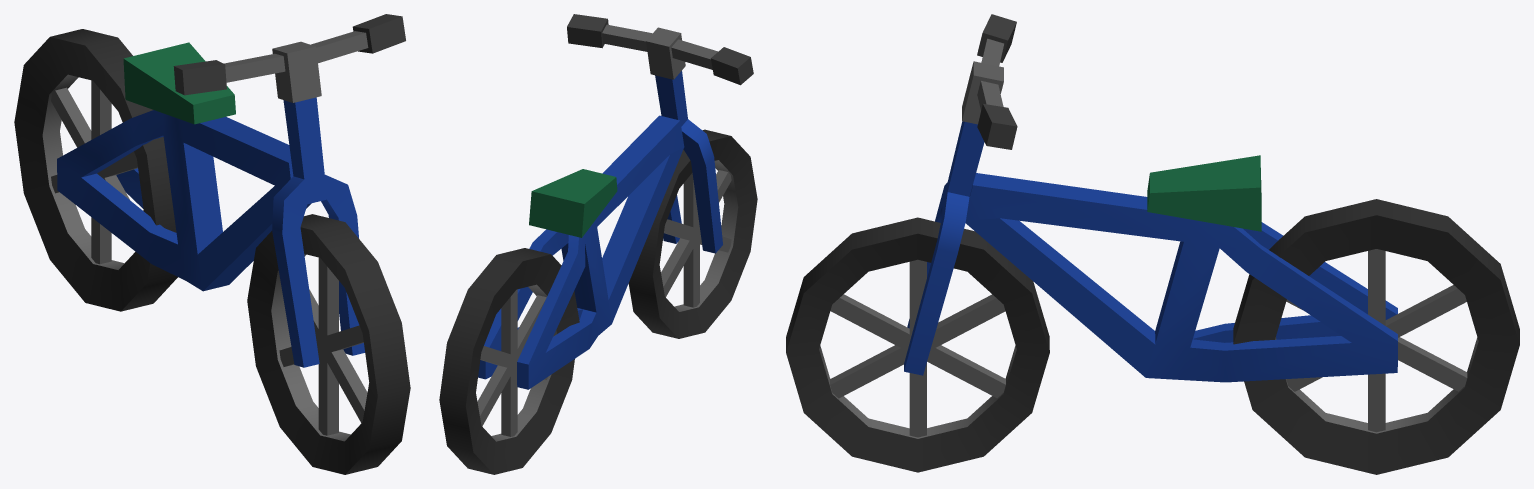
The model's file is bicycle_v1.fbx.
3 renders of one model, left to right at view 1: azimuth 30°, elevation 25°; view 2: azimuth 150°, elevation 25°; view 3: azimuth 270°, elevation 25°, orthographic. The views are drawn at different scales.
Visible parts, largest first — view 1: bicycle_v1; view 2: bicycle_v1; view 3: bicycle_v1.
Boxes of the visible parts, x1,y1,x2,y2 form: bicycle_v1: (14, 14, 410, 474); bicycle_v1: (439, 14, 757, 474); bicycle_v1: (786, 14, 1519, 474).
Bounding box in the file's own units: 52.87 × 89.88 × 150.
